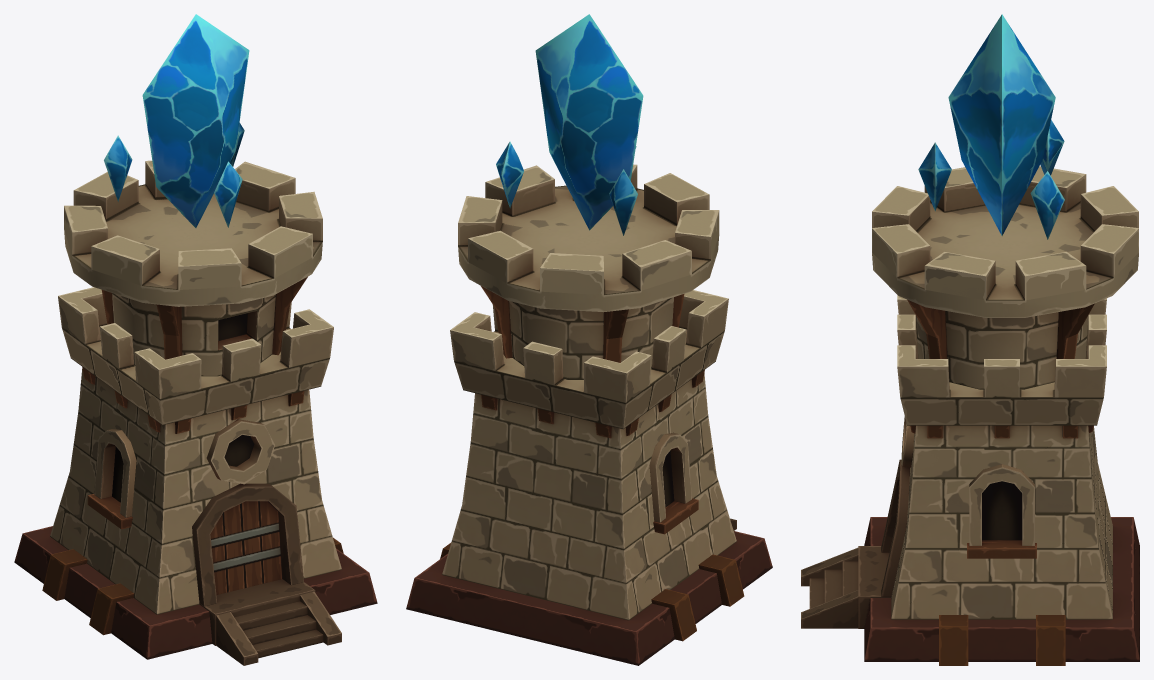
Rendered from building_02.FBX.
The picture shows the model from 3 angles, left to right: view 1: azimuth 30°, elevation 25°; view 2: azimuth 150°, elevation 25°; view 3: azimuth 270°, elevation 25°; orthographic projection. The views are drawn at different scales.
Visible parts, largest first — view 1: Box002; view 2: Box002; view 3: Box002.
Boxes of the visible parts, left/top/right/bottom form: Box002: left=14, top=14, right=377, bottom=665; Box002: left=406, top=14, right=772, bottom=665; Box002: left=801, top=14, right=1139, bottom=665.
Bounding box in the file's own units: 406 × 896 × 467.
